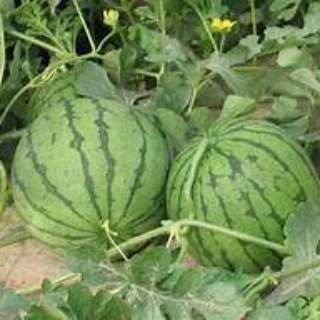dua_hau: (12, 94, 169, 254), (168, 119, 318, 271)
